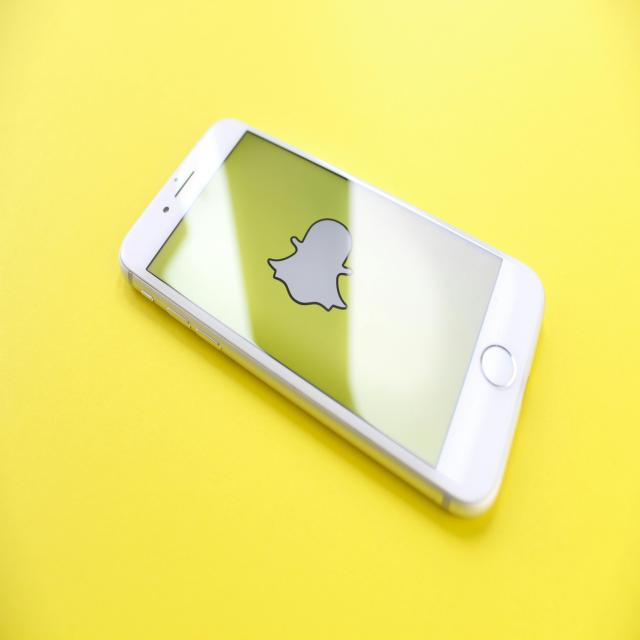Mobile: (108, 75, 567, 511)
